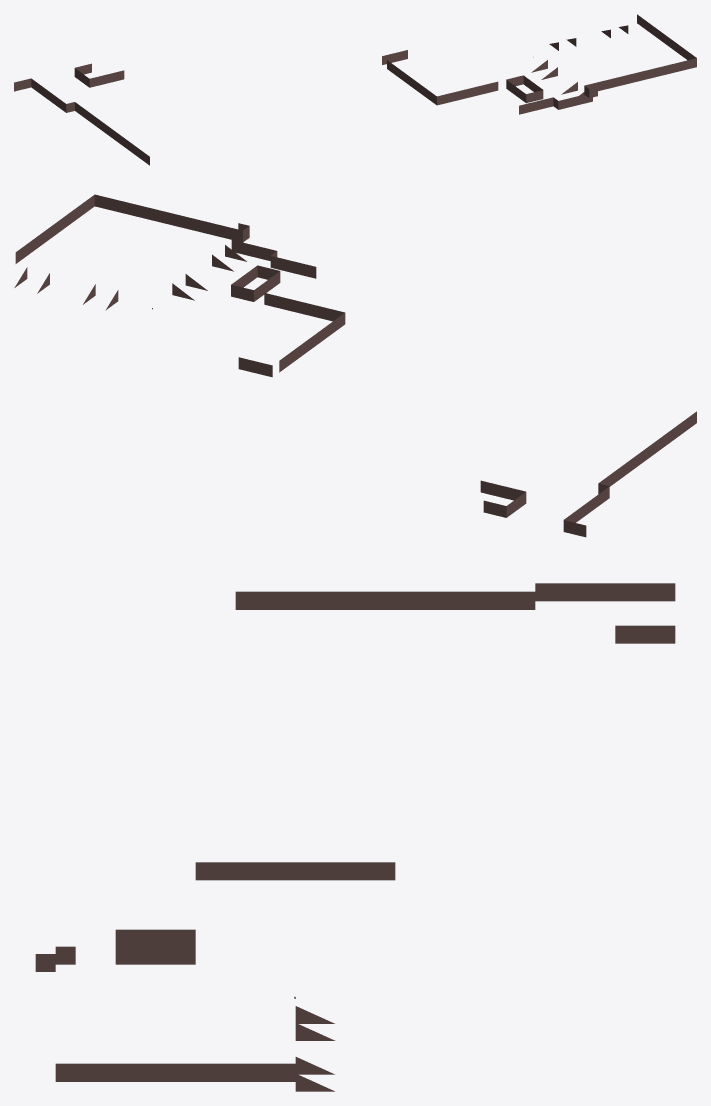
Rendered from _wall.fbx.
3 views of the same model, one above another, from view 1: azimuth 30°, elevation 25°; view 2: azimuth 150°, elevation 25°; view 3: azimuth 270°, elevation 25° (orthographic). The views are drawn at different scales.
Visible parts, largest first — view 1: Platform.005; view 2: Platform.005; view 3: Platform.005.
Boxes of the visible parts, x1,y1,x2,y2 form: Platform.005: (14, 14, 696, 165); Platform.005: (14, 194, 696, 537); Platform.005: (35, 583, 675, 1091).
Size of the model in its own units: 18300 by 600 by 9600.
